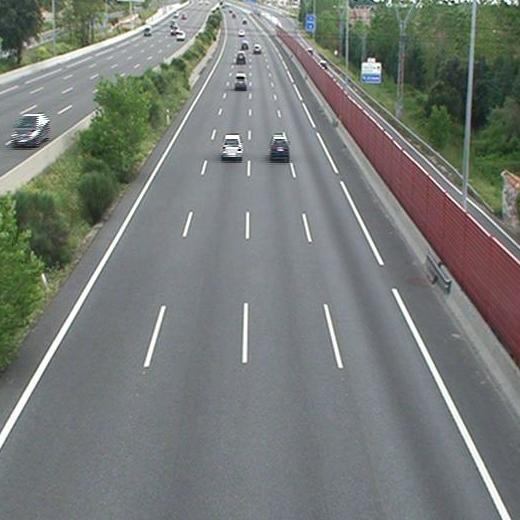car: (223, 134, 242, 159), (271, 135, 290, 158), (234, 74, 246, 88), (235, 51, 245, 64), (240, 42, 248, 50), (253, 44, 260, 53)
